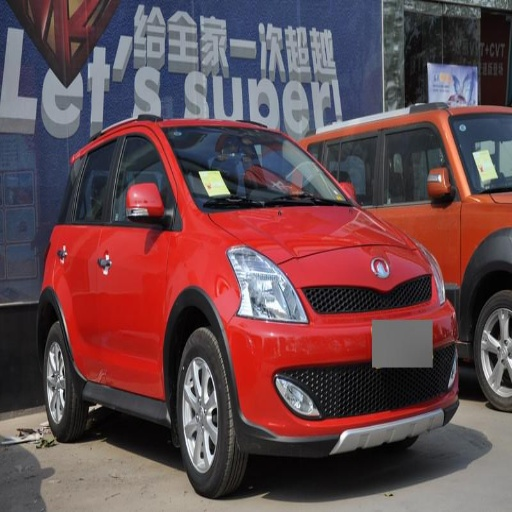front_bumper: (223, 286, 454, 451)
front_right_door: (93, 128, 176, 390)
front_right_light: (226, 247, 307, 322)
